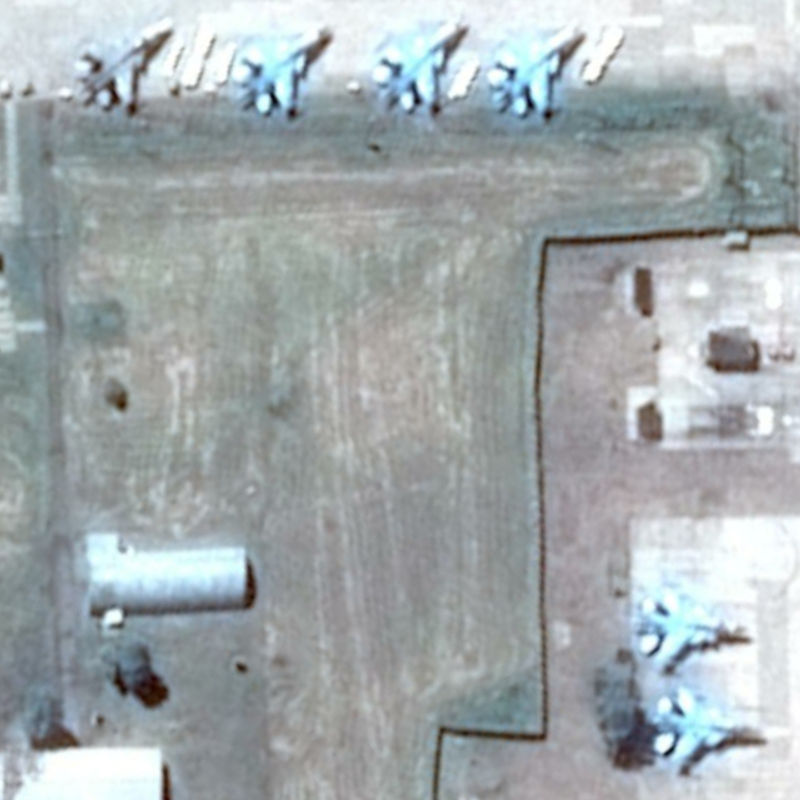A19: (63, 13, 183, 119), (642, 680, 769, 773), (478, 19, 590, 120), (225, 18, 334, 121), (634, 586, 760, 672), (367, 16, 469, 117)
